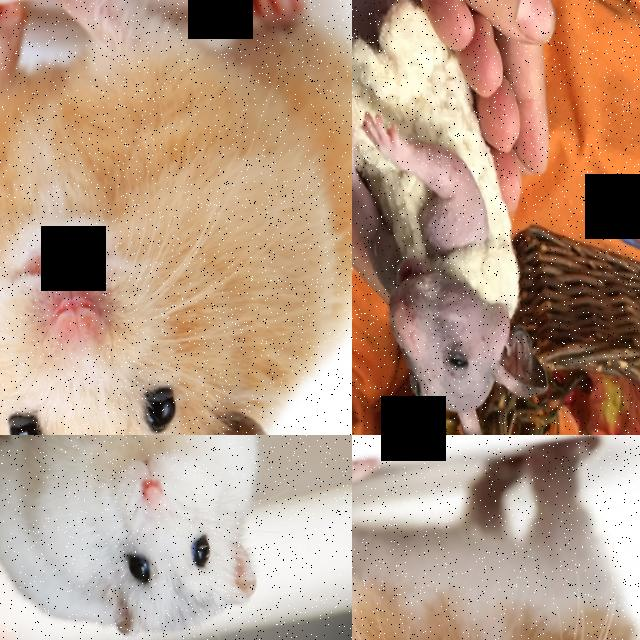hamster: (0, 0, 352, 435), (352, 0, 552, 435), (0, 435, 290, 640), (352, 435, 640, 640)
